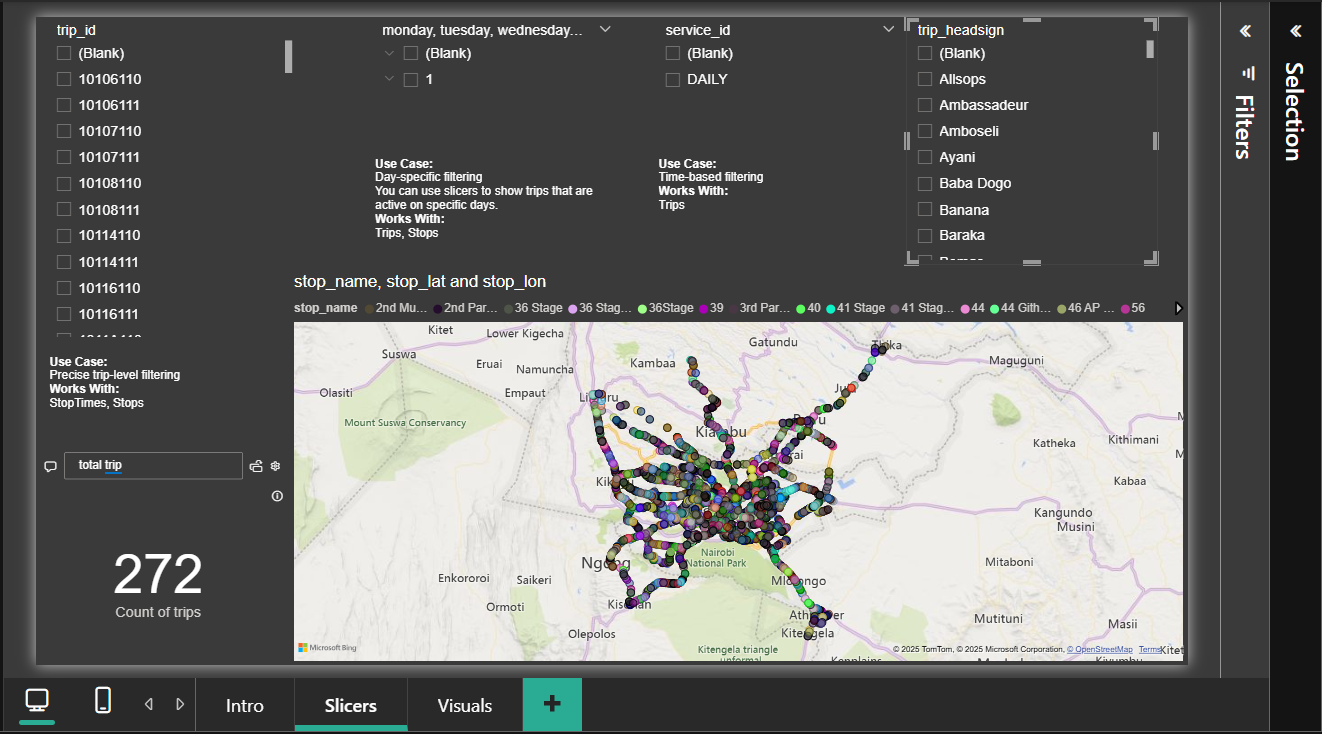

The dashboard page shown, as its layout file describes it:
{"tool":"powerbi","page":{"name":"Slicers","canvas":[1280,720],"ordinal":1},"visuals":[{"type":"slicer","fields":{"Values":["trips.trip_id"]},"box":[9.8,0,279.8,359.5],"z":0},{"type":"textbox","box":[9.8,369.2,279.8,89.5],"z":1000},{"type":"slicer","fields":{"Values":["calendar.monday","calendar.tuesday","calendar.wednesday","calendar.thursday","calendar.friday","calendar.saturday","calendar.sunday"]},"box":[372.5,0,279.8,149.6],"z":2000},{"type":"textbox","box":[10,534.5,280,150],"z":3000},{"type":"qnaVisual","box":[0,458.7,281.4,261.9],"z":4000},{"type":"textbox","box":[372.5,149.6,279.8,125.2],"z":5000},{"type":"slicer","fields":{"Values":["calendar.service_id"]},"box":[686.4,0,279.8,149.6],"z":6000},{"type":"slicer","fields":{"Values":["trips.trip_headsign"]},"box":[966.7,0,280,275],"z":7000},{"type":"textbox","box":[686.4,149.6,279.8,125.2],"z":8000},{"type":"map","fields":{"Y":["stops.stop_lat"],"X":["stops.stop_lon"],"Series":["stops.stop_name"]},"box":[281.7,283.3,998.3,436.7],"z":9000}]}

Visuals, with their boxes on the page's 1280x720 design canvas (x1, y1, x2, y2). These are canvas units, not pixel positions in the 1322x734 screenshot, which may show the page scaled, cropped or inside an application window:
slicer - trips.trip_id: 10, 0, 290, 360
textbox: 10, 369, 290, 459
slicer - calendar.monday x calendar.tuesday: 372, 0, 652, 150
textbox: 10, 534, 290, 684
qnaVisual: 0, 459, 281, 721
textbox: 372, 150, 652, 275
slicer - calendar.service_id: 686, 0, 966, 150
slicer - trips.trip_headsign: 967, 0, 1247, 275
textbox: 686, 150, 966, 275
map - stops.stop_lat x stops.stop_lon: 282, 283, 1280, 720
